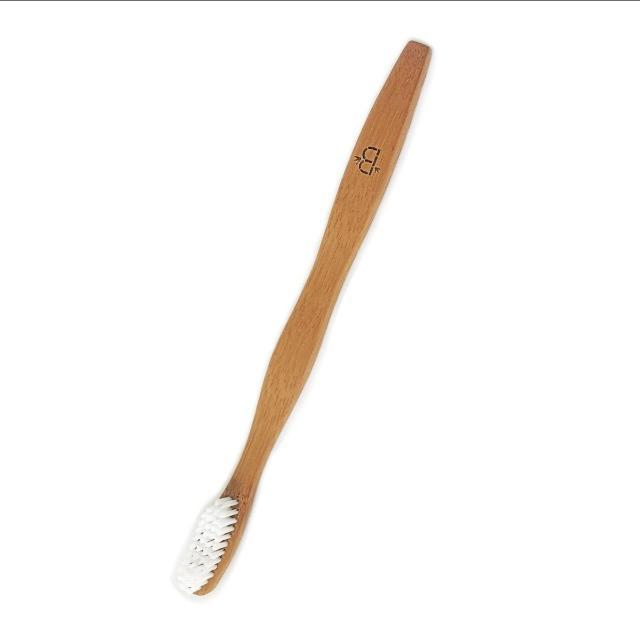toothbrush: (144, 34, 430, 632)
